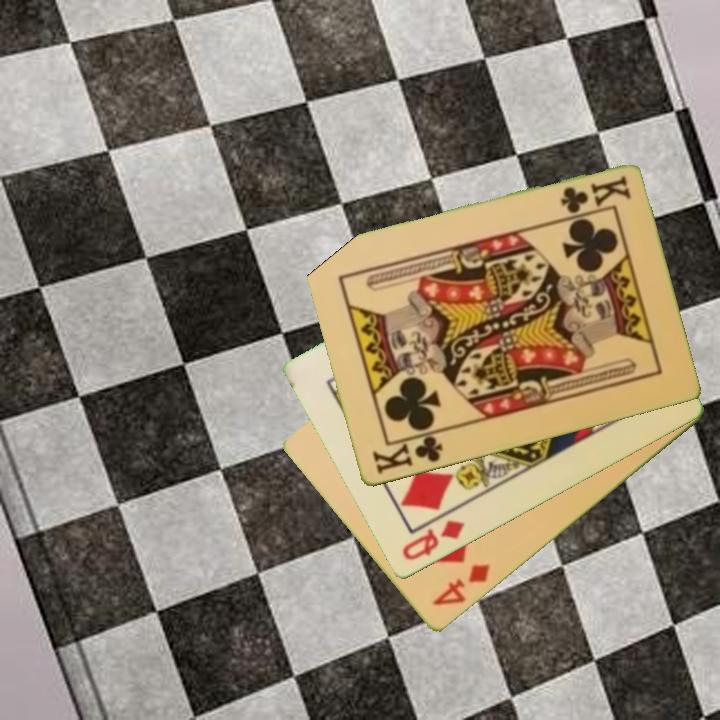4d: (429, 560, 493, 610)
Kc: (368, 428, 446, 478), (556, 173, 633, 217)
Qd: (398, 517, 468, 565)
